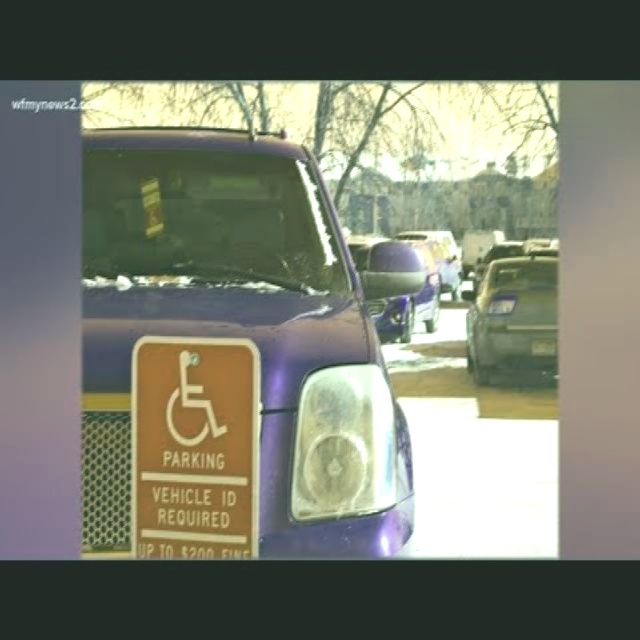ISA: (159, 343, 230, 454)
